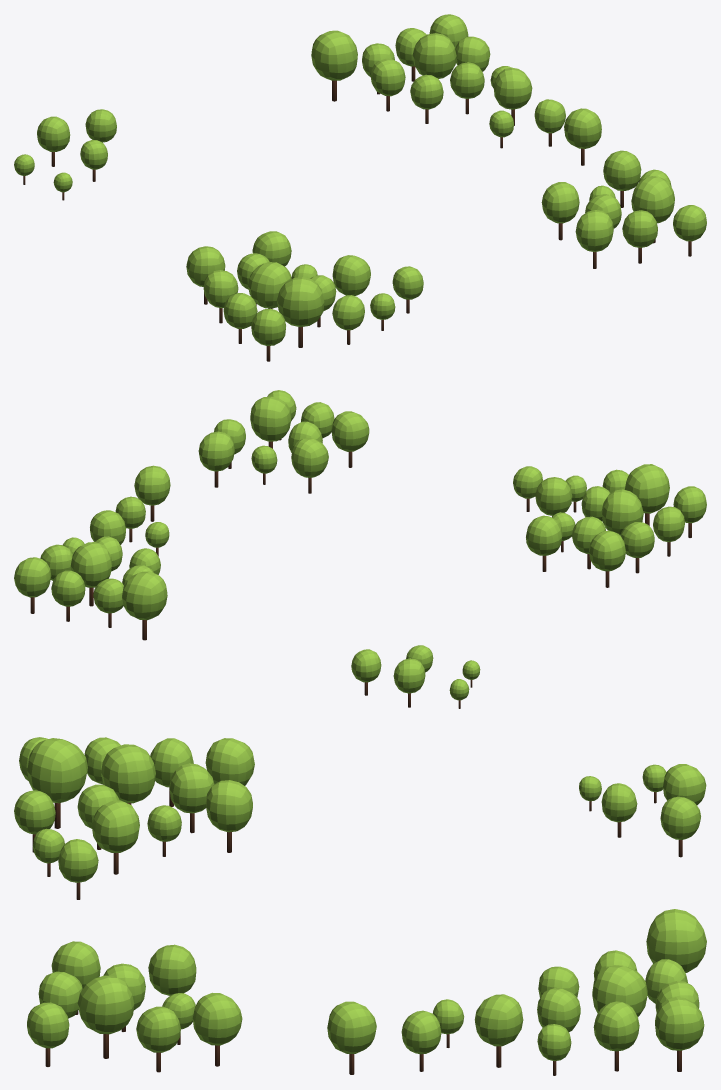
The model's file is all trees.fbx.
The picture shows the model from 3 angles, top to bottom: view 1: azimuth 30°, elevation 25°; view 2: azimuth 150°, elevation 25°; view 3: azimuth 270°, elevation 25°; orthographic projection. The views are drawn at different scales.
Visible parts, largest first — view 1: Cube.362; view 2: Cube.362; view 3: Cube.362.
Part boxes in pixels (box(x1,y1,x2,y2)): Cube.362: box(14, 14, 706, 361); Cube.362: box(14, 390, 706, 708); Cube.362: box(14, 737, 706, 1075).
Bounding box in the file's own units: 136 × 18.98 × 137.
Materials: 1 (1 with a texture image).
